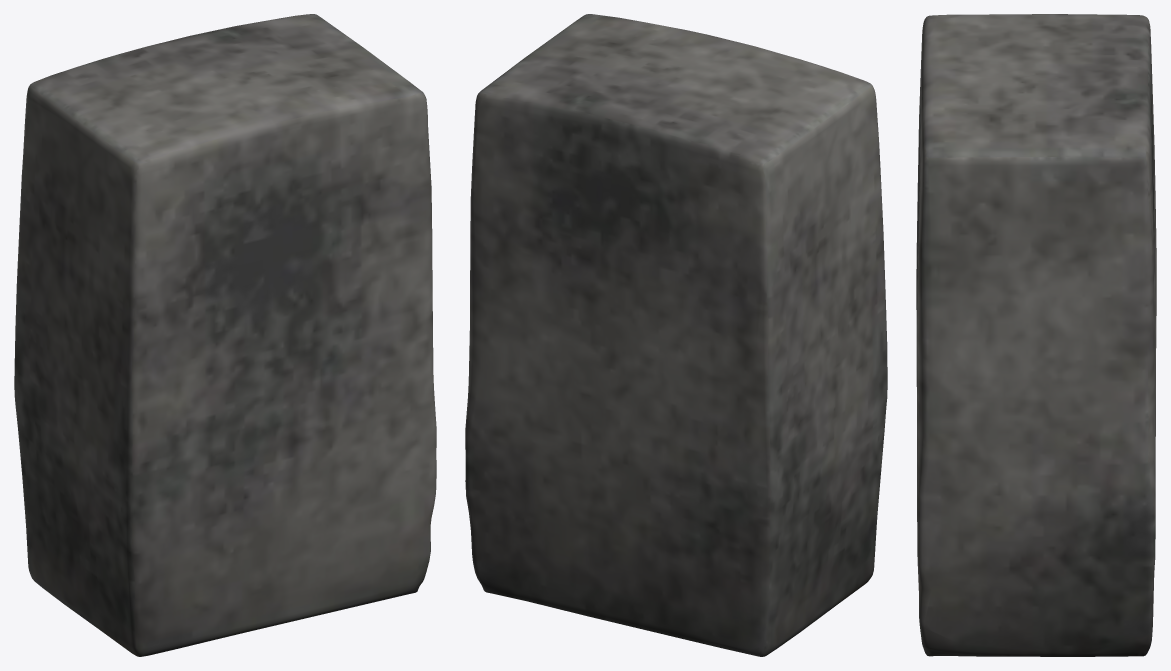
The model's file is ornate-granite-milestone-v001.glb.
3 renders of one model, left to right at view 1: azimuth 30°, elevation 25°; view 2: azimuth 150°, elevation 25°; view 3: azimuth 270°, elevation 25°, orthographic.
Visible parts, largest first — view 1: ornate-granite-milestone; view 2: ornate-granite-milestone; view 3: ornate-granite-milestone.
Boxes of the visible parts, box(x1,y1,x2,y2) form: ornate-granite-milestone: box(14, 14, 436, 656); ornate-granite-milestone: box(465, 14, 887, 656); ornate-granite-milestone: box(916, 14, 1156, 656).
Size of the model in its own units: 0.4589 by 0.7196 by 0.304.
Materials: 1 (1 with a texture image).
